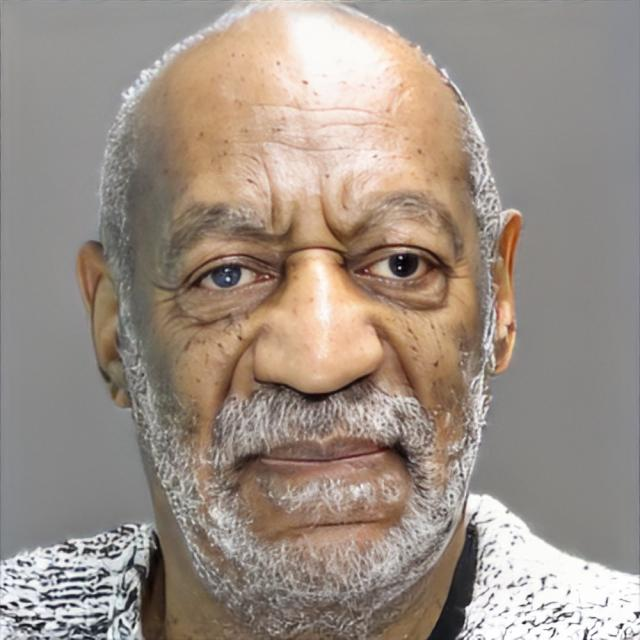disgust: (128, 60, 490, 602)
